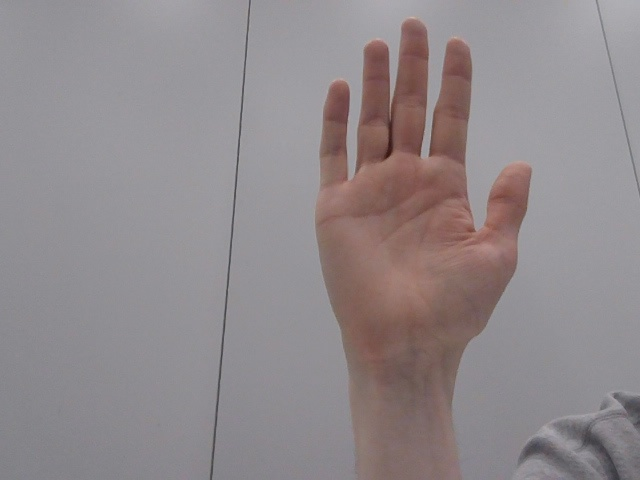nada: (277, 4, 550, 383)
